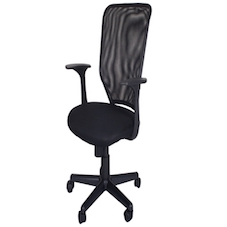chair: (36, 0, 167, 225)
